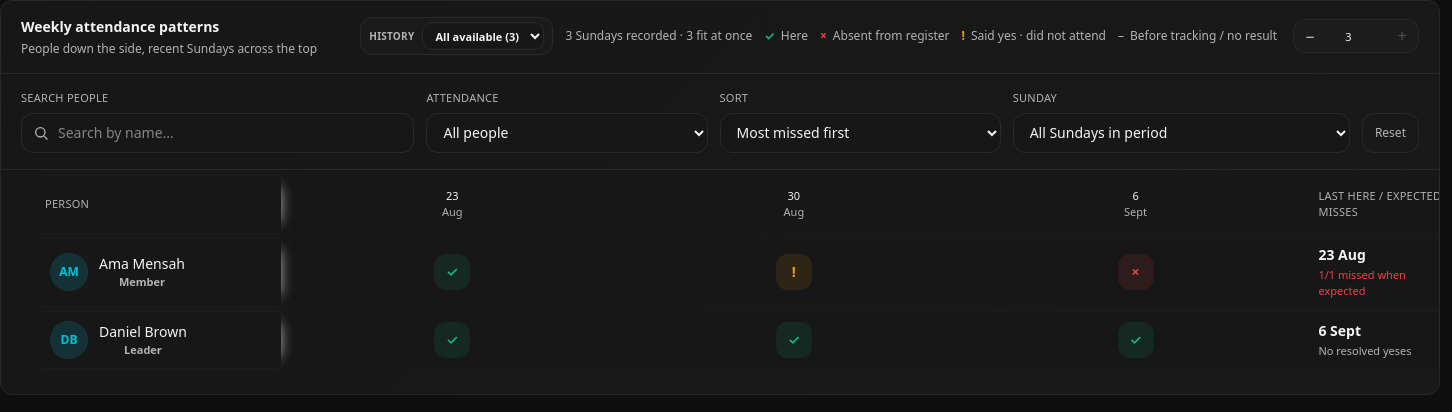
Scenario: uses a cross for ordinary register absence and an amber exclamation for a confirmed no-show
expect the button named "Ama Mensah missed Sun, 6 Sept 2026" reads "×": met, box [1118, 254, 1154, 290]
expect the button named "Ama Mensah said yes but did not attend Sun, 30 Aug 2026" reads "!": met, box [776, 254, 812, 290]
Select "Said yes · did not attend" in the dropdown labelled "Attendance" at (567, 132), box [426, 112, 708, 152]
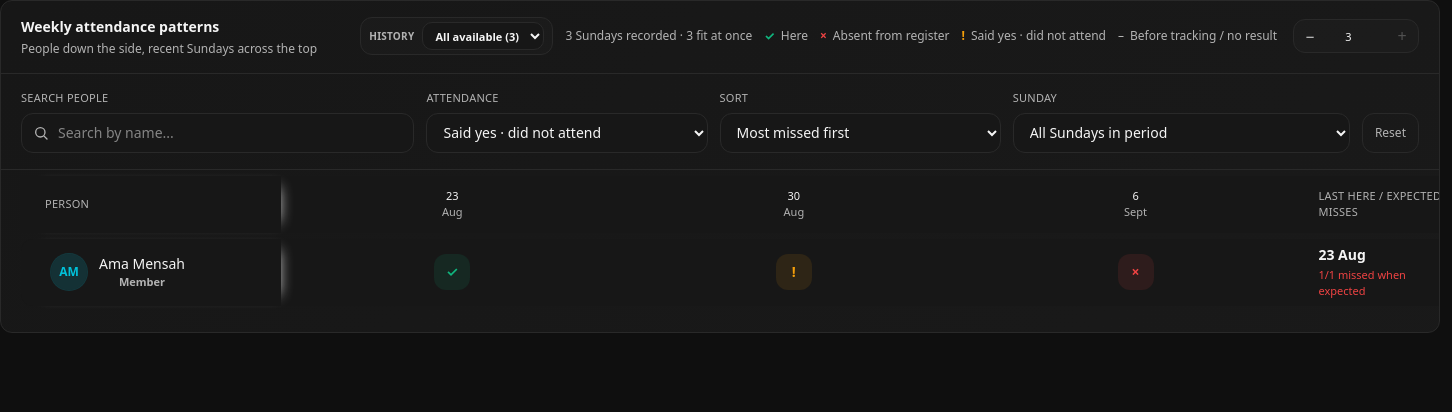
expect the text "Ama Mensah" is shown: met, box [99, 254, 185, 274]
expect the button "Daniel Brown" is gone: met
